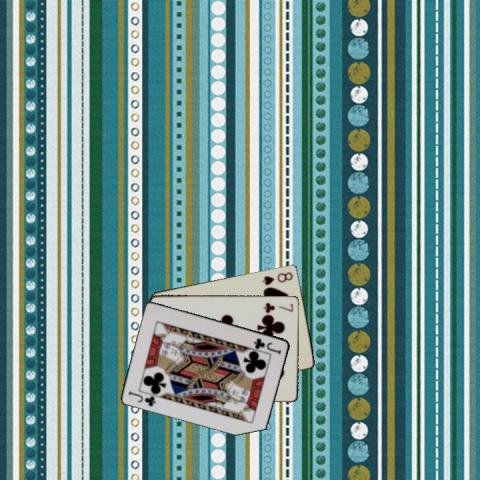7c: (260, 299, 294, 313)
8s: (259, 269, 294, 286)
Jc: (250, 335, 282, 355), (126, 388, 157, 408)
